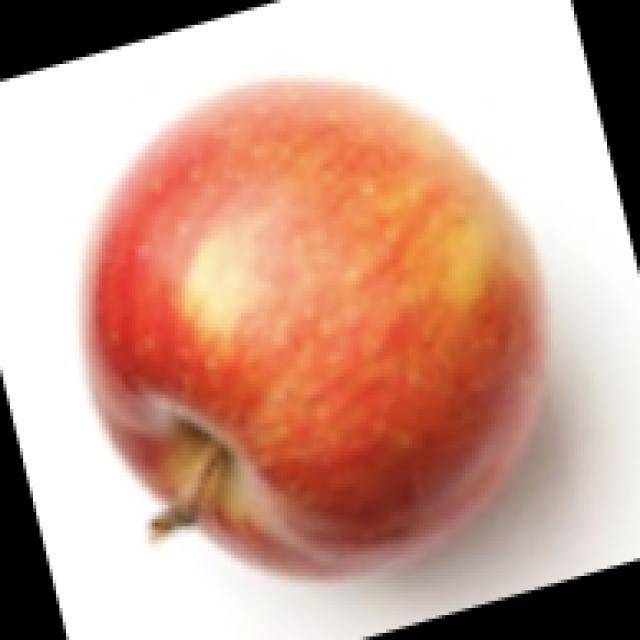Fresh Apple: (94, 85, 544, 585)
